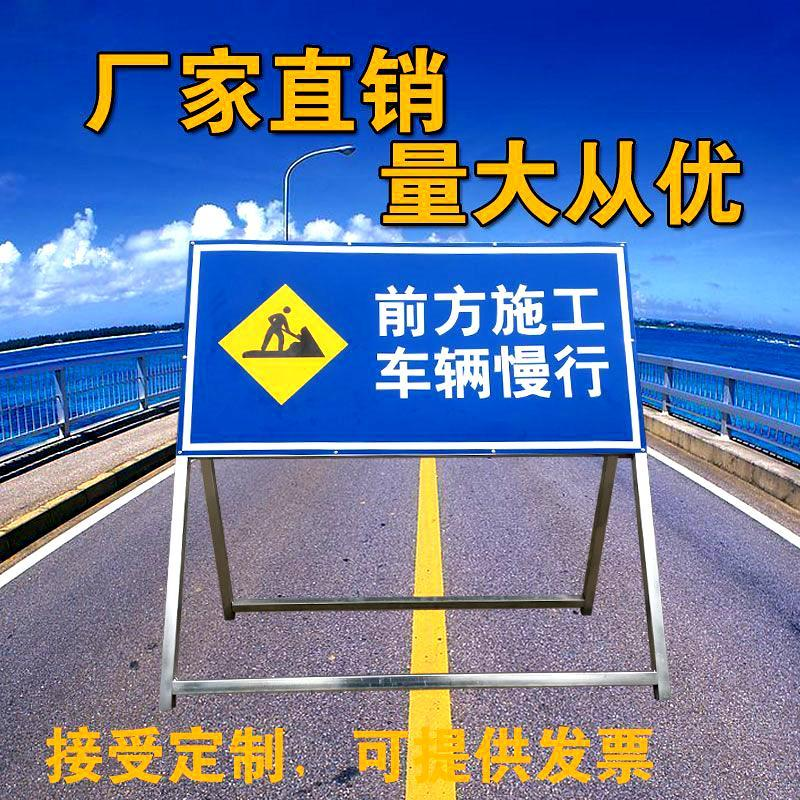sign: (176, 236, 644, 457)
